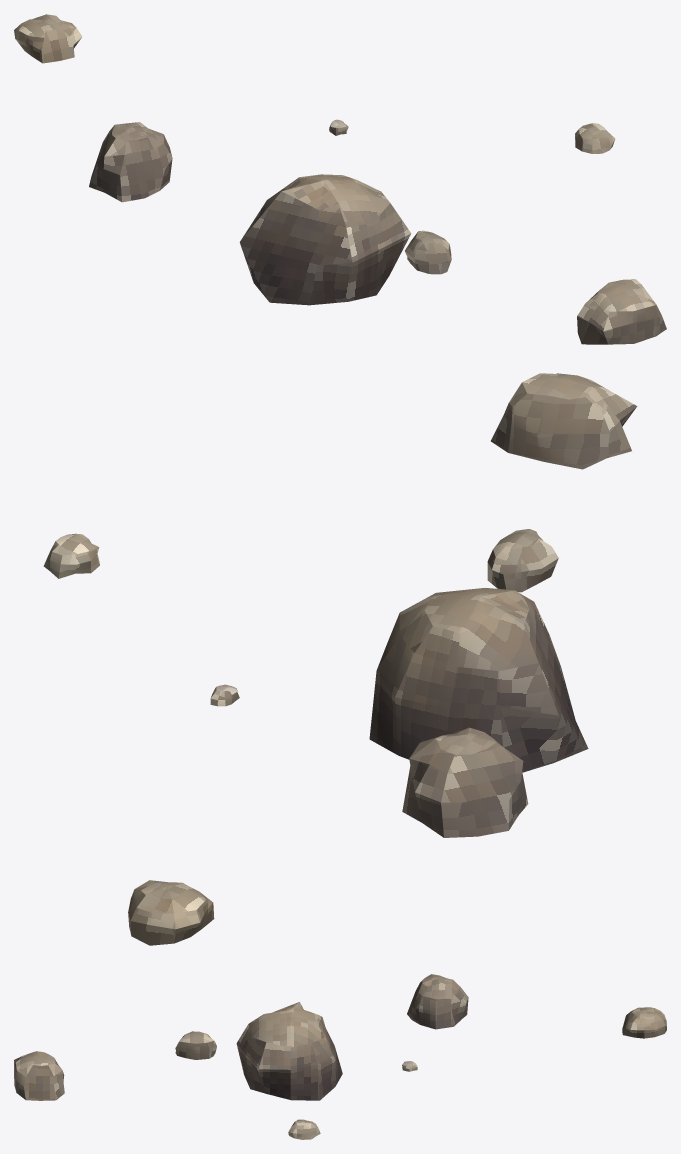
The picture shows the model from 3 angles, top to bottom: view 1: azimuth 30°, elevation 25°; view 2: azimuth 150°, elevation 25°; view 3: azimuth 270°, elevation 25°; orthographic projection. The views are drawn at different scales.
Visible parts, largest first — view 1: Grit; view 2: Grit; view 3: Grit.
Part boxes in pixels (x1=…): Grit: x1=14, y1=14, x2=666, y2=344; Grit: x1=43, y1=373, x2=637, y2=945; Grit: x1=14, y1=974, x2=666, y2=1139.
Size of the model in its own units: 6.06 by 1.37 by 11.41.
1 material, 1 textured.
